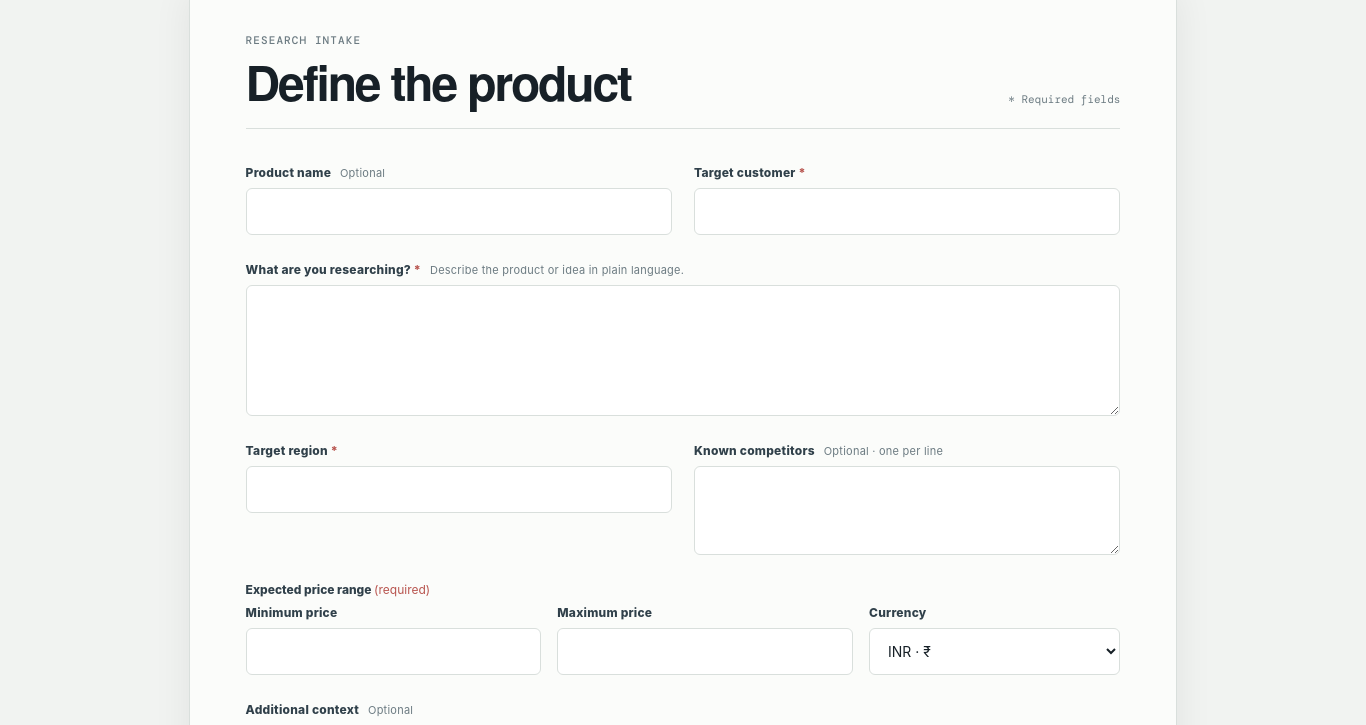
NewRun › validates required fields and preserves entered values
The width and height of the screenshot is (1366, 725).
(page scrolled)
In the text box labelled "What are you researching": {"x": 683, "y": 350} [246,285,1120,416], type "A product idea"
(page scrolled)
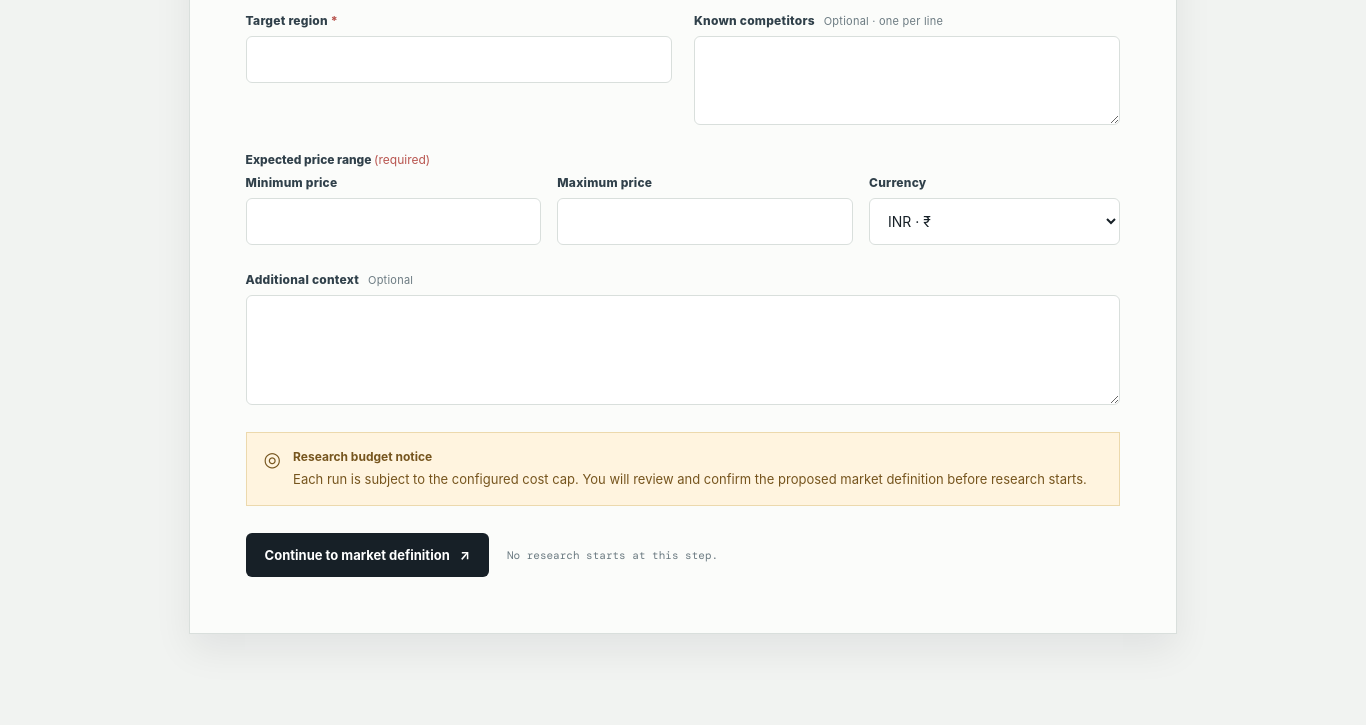
Click the button "Continue to market definition ↗": {"x": 367, "y": 555} [246,533,489,577]
(page scrolled)
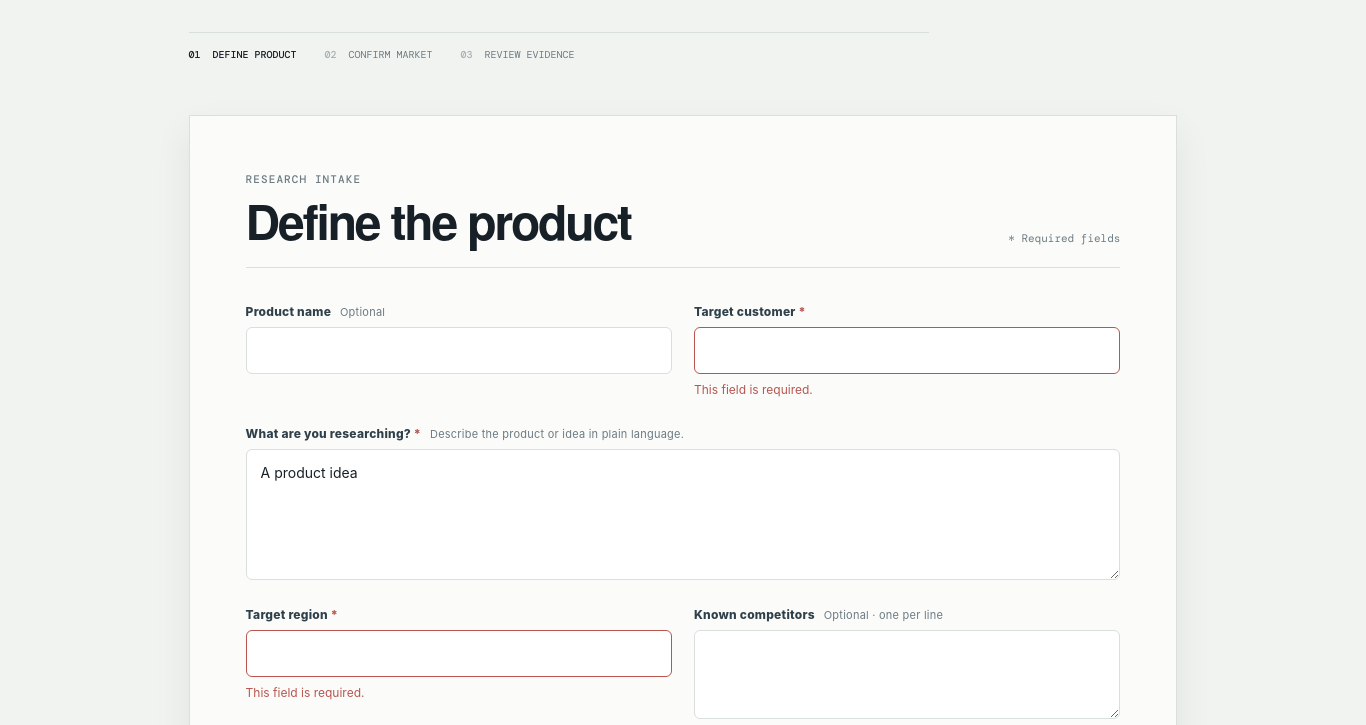
Expected: the text "This field is required." below "Target customer" is shown, [694,382,813,397]
